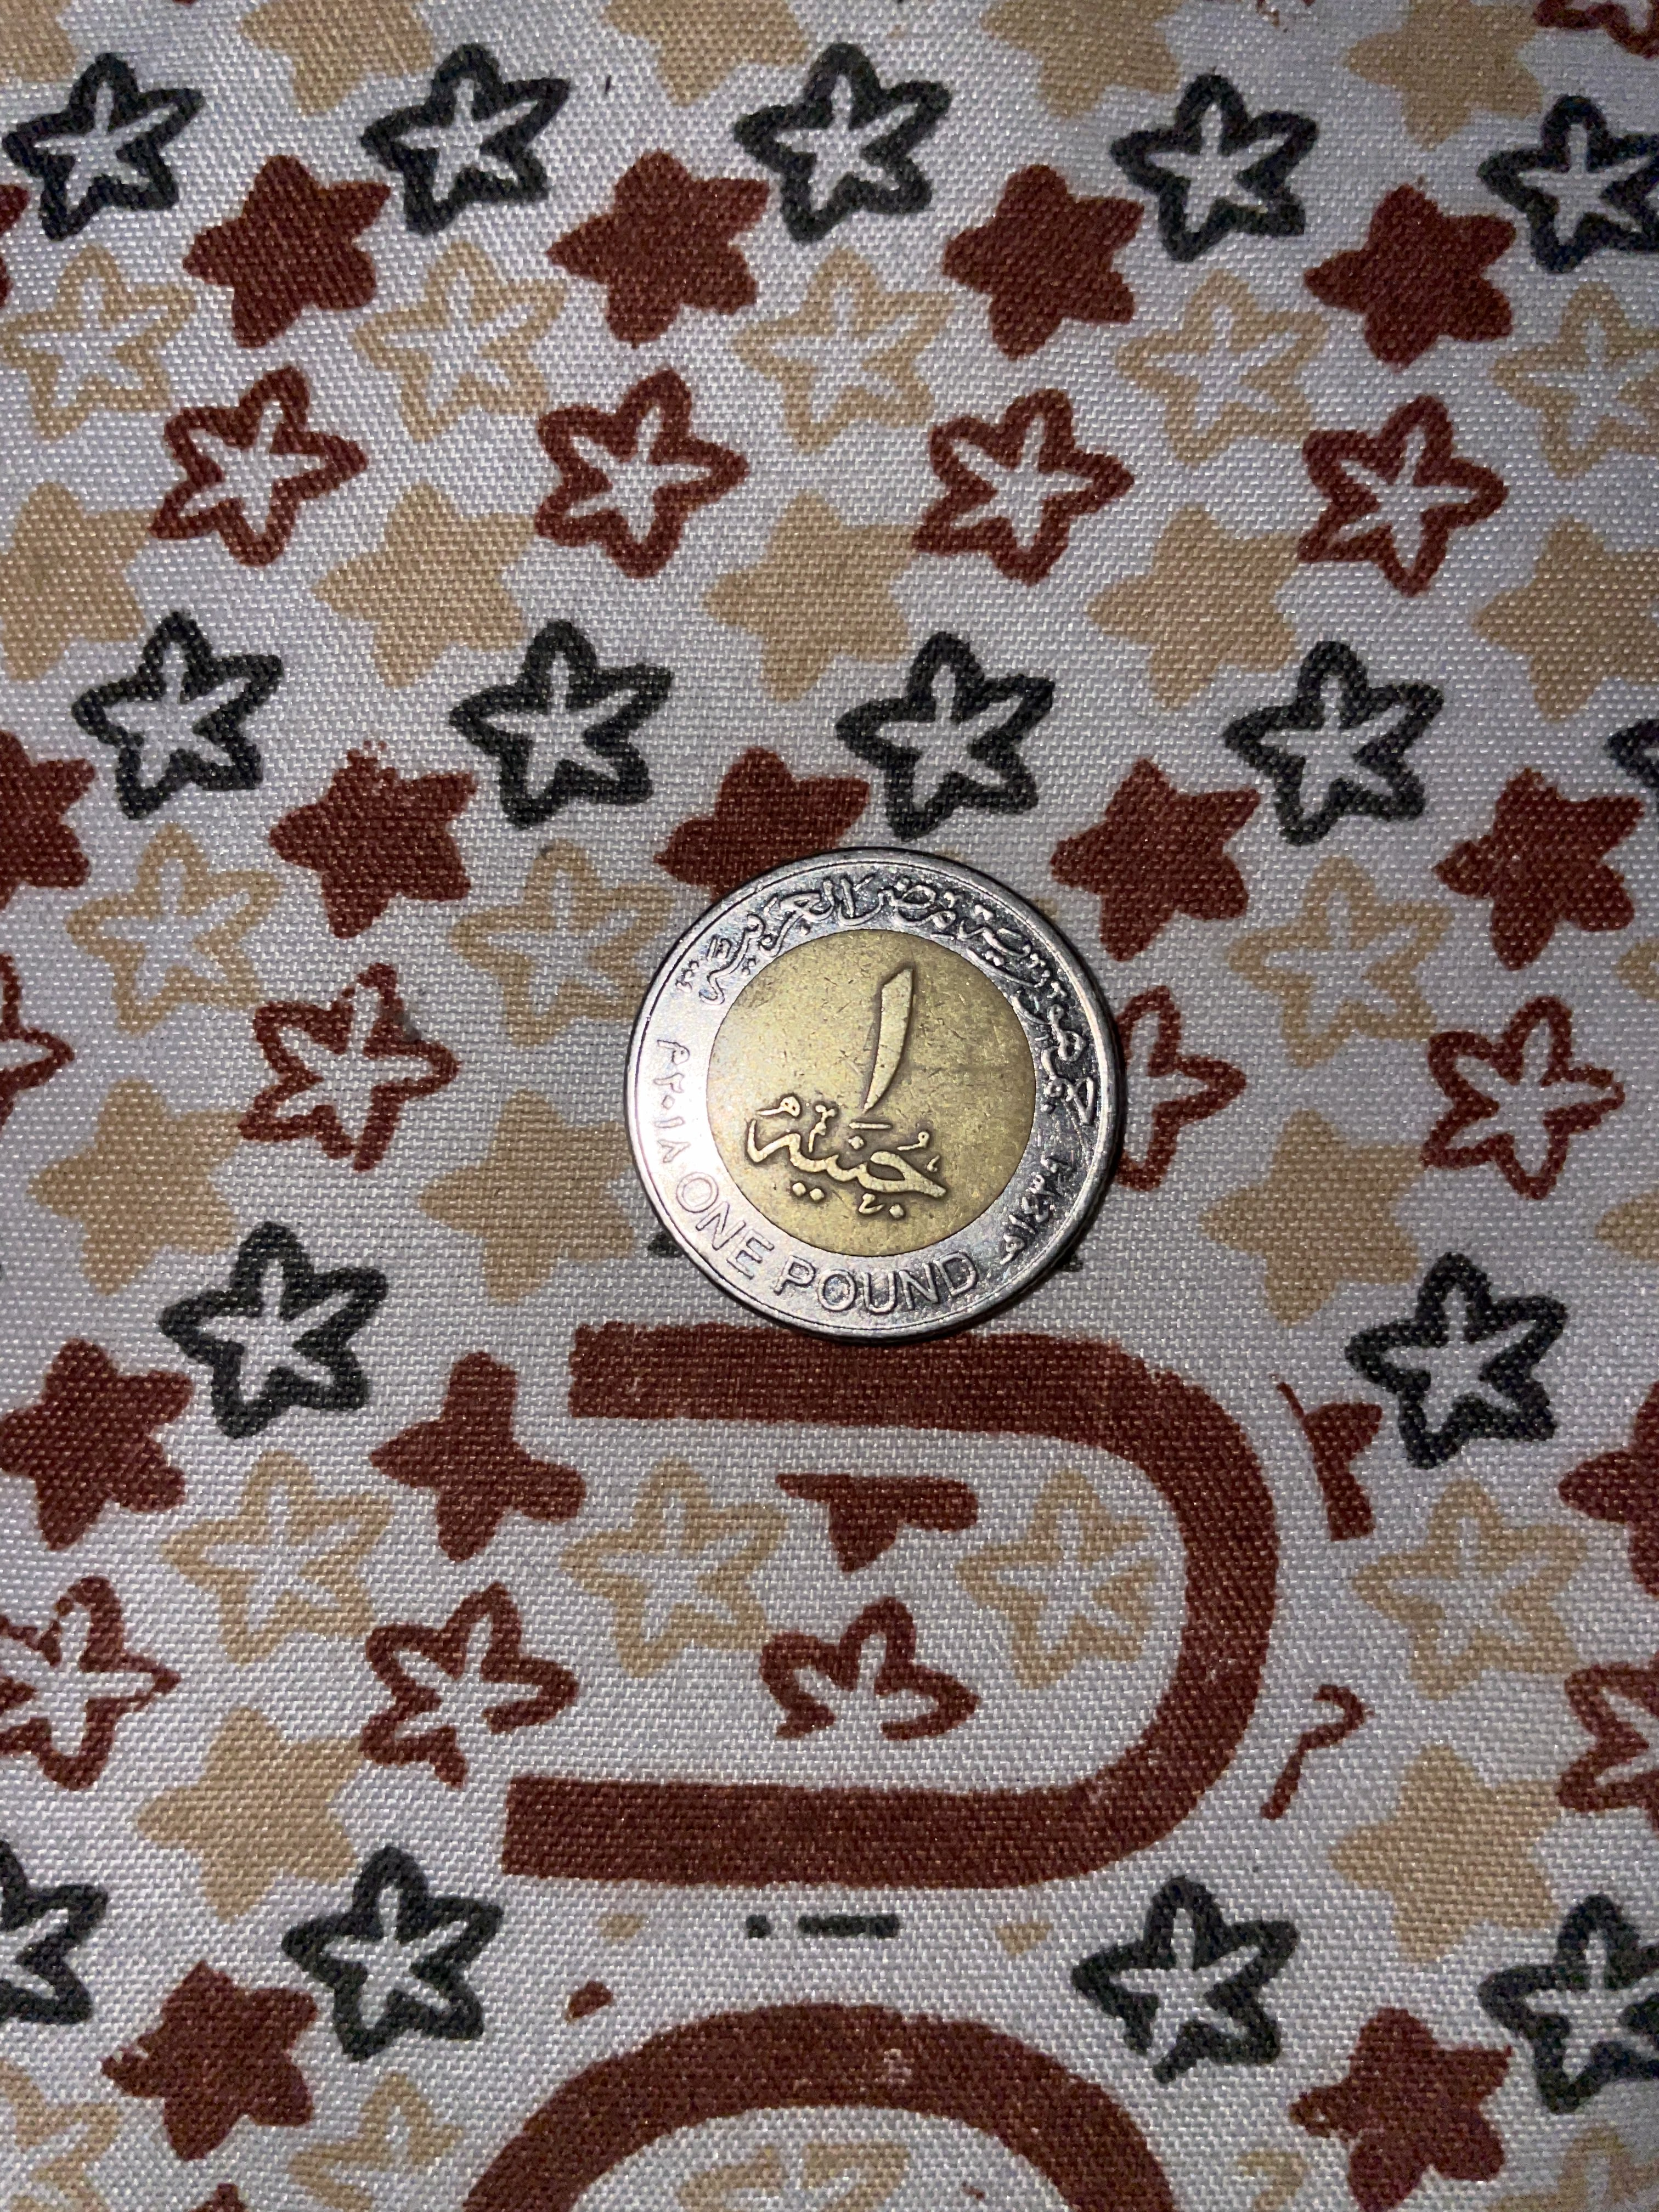one: (617, 850, 1133, 1350)
